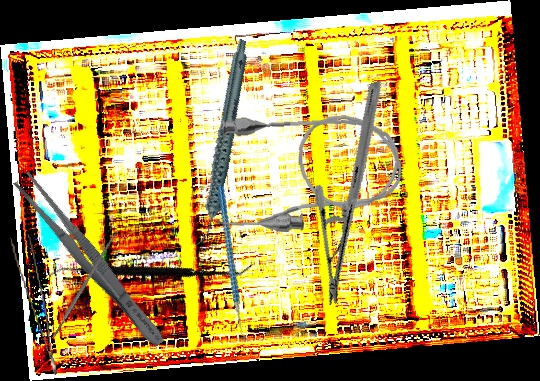Cannula: (209, 106, 405, 237)
Chopper: (189, 185, 281, 343)
Dressing Forceps: (10, 168, 171, 353)
Handpiece: (154, 38, 290, 249)
Needle Holder: (266, 80, 442, 306)
Scalpel Handle: (50, 232, 118, 339)
Spatula Surgical: (46, 177, 255, 362)
Tissue Forceps: (10, 232, 57, 379)
